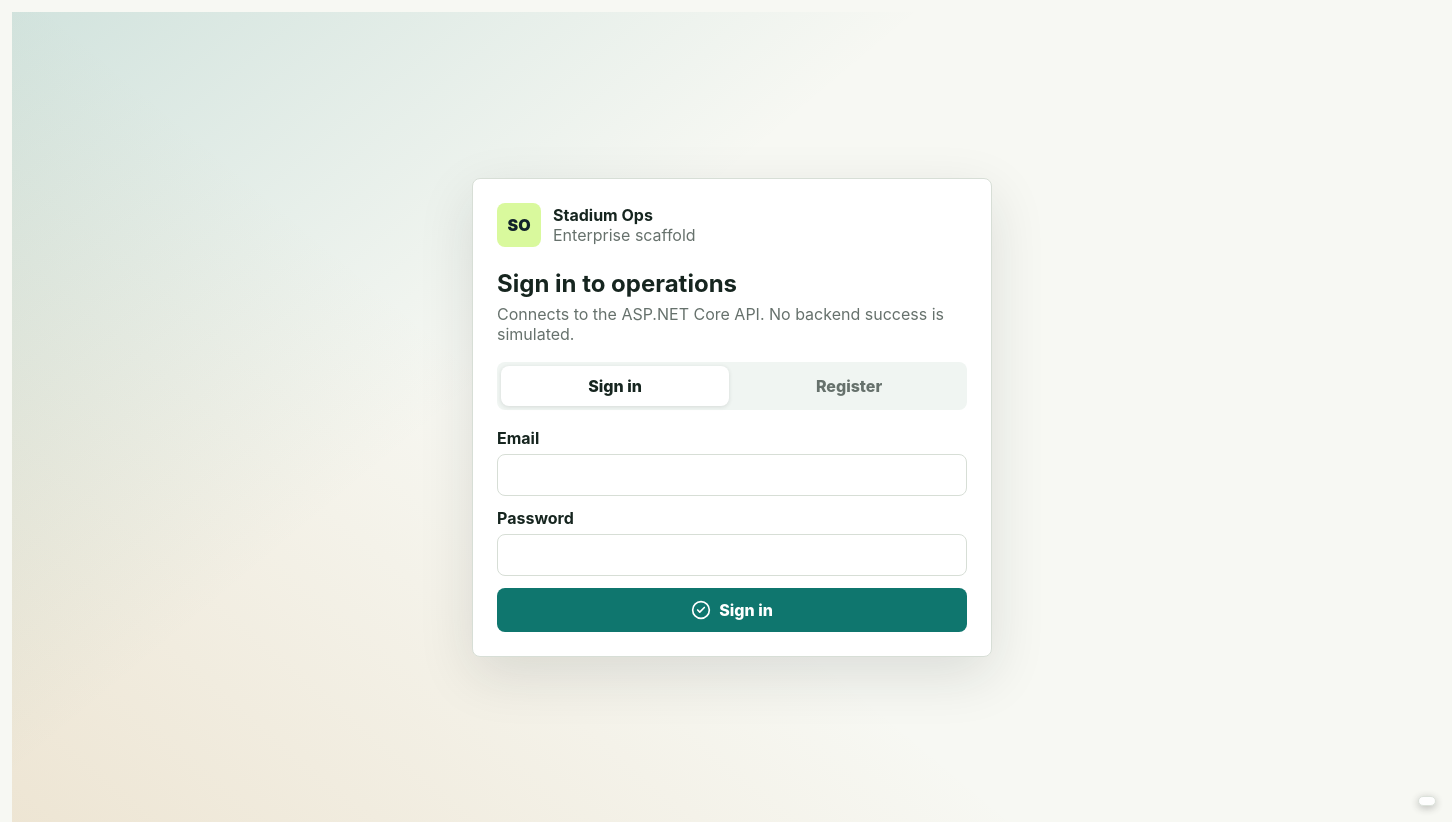
Test: AuthScreen › renders login form by default and toggles to registration form
Check: the heading "Sign in to operations" is shown, box x1=497 y1=268 x2=737 y2=298
Check: the field labelled "Email" is shown, box x1=497 y1=454 x2=967 y2=496
# Click Register tab to switch forms
Step 1. Click the tab "Register" → click(849, 386), box x1=735 y1=366 x2=963 y2=406
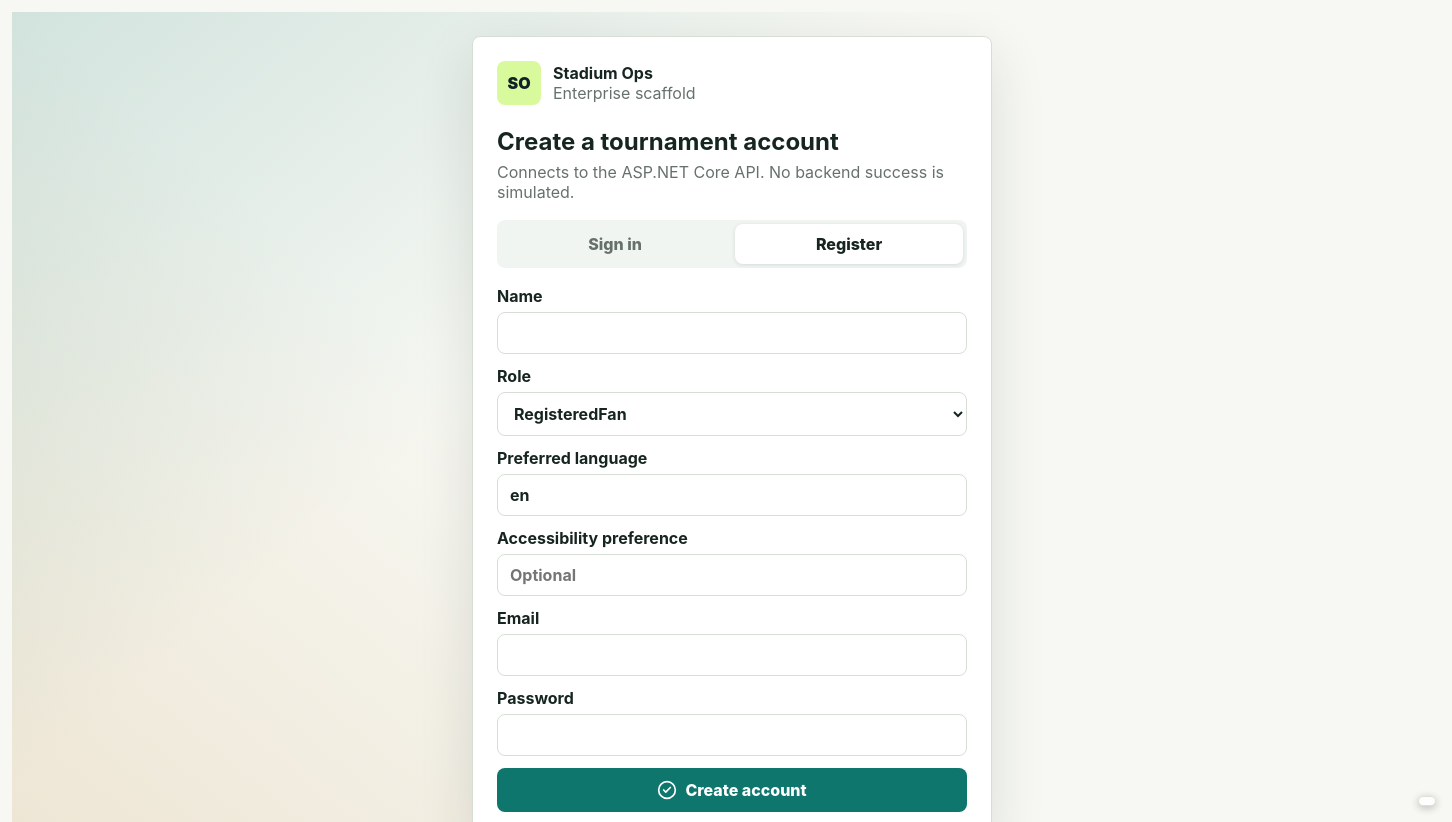
Check: the field labelled "Email" is shown, box x1=497 y1=634 x2=967 y2=676
Check: the heading "Create a tournament account" is shown, box x1=497 y1=127 x2=839 y2=156
Check: the field named "name" is shown, box x1=497 y1=312 x2=967 y2=354
